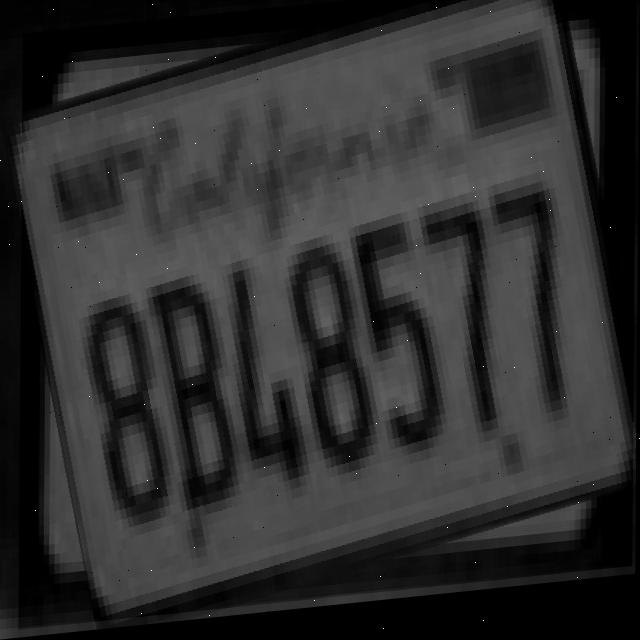LicensePlate: (20, 0, 637, 630)
